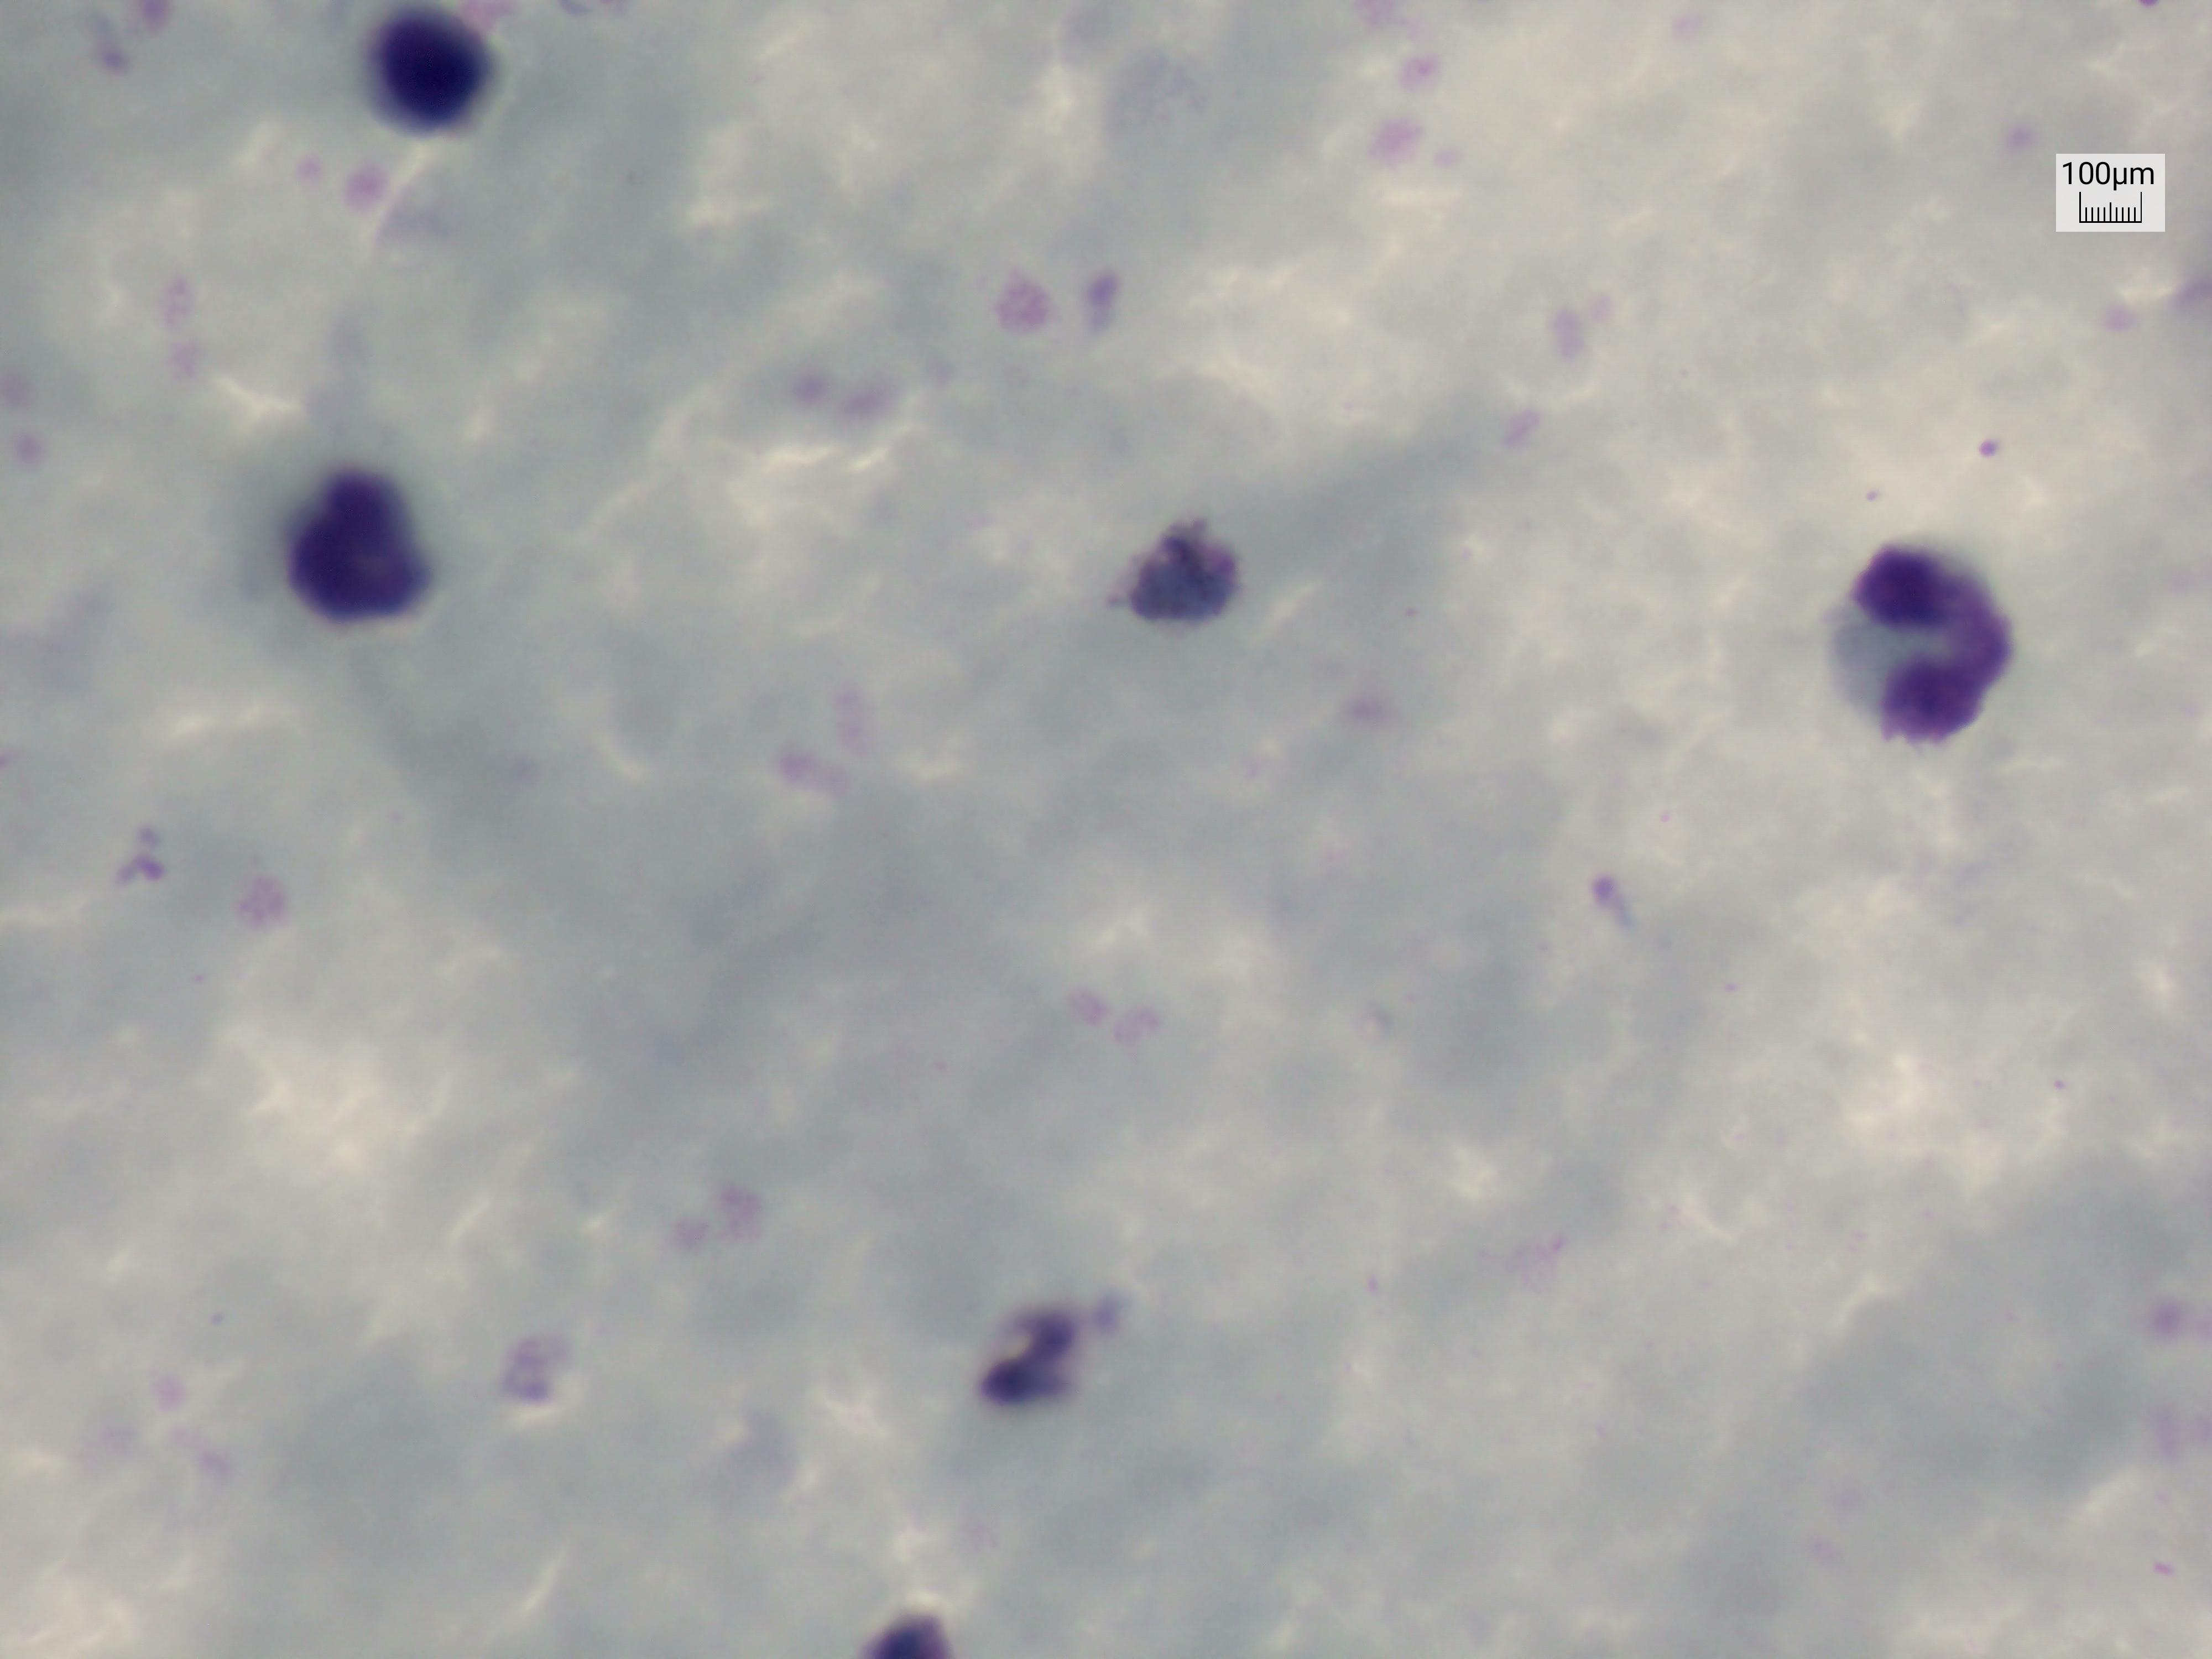p.vivax: (960, 1277, 1144, 1427), (1101, 481, 1256, 650), (1571, 861, 1655, 971), (99, 814, 174, 911), (1963, 408, 2033, 484)
